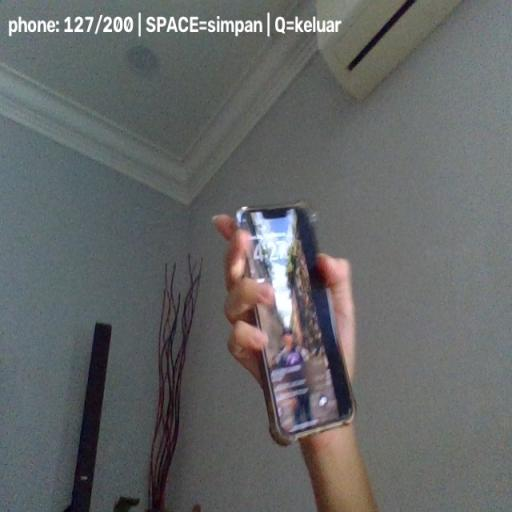Phone: (236, 201, 357, 446)
